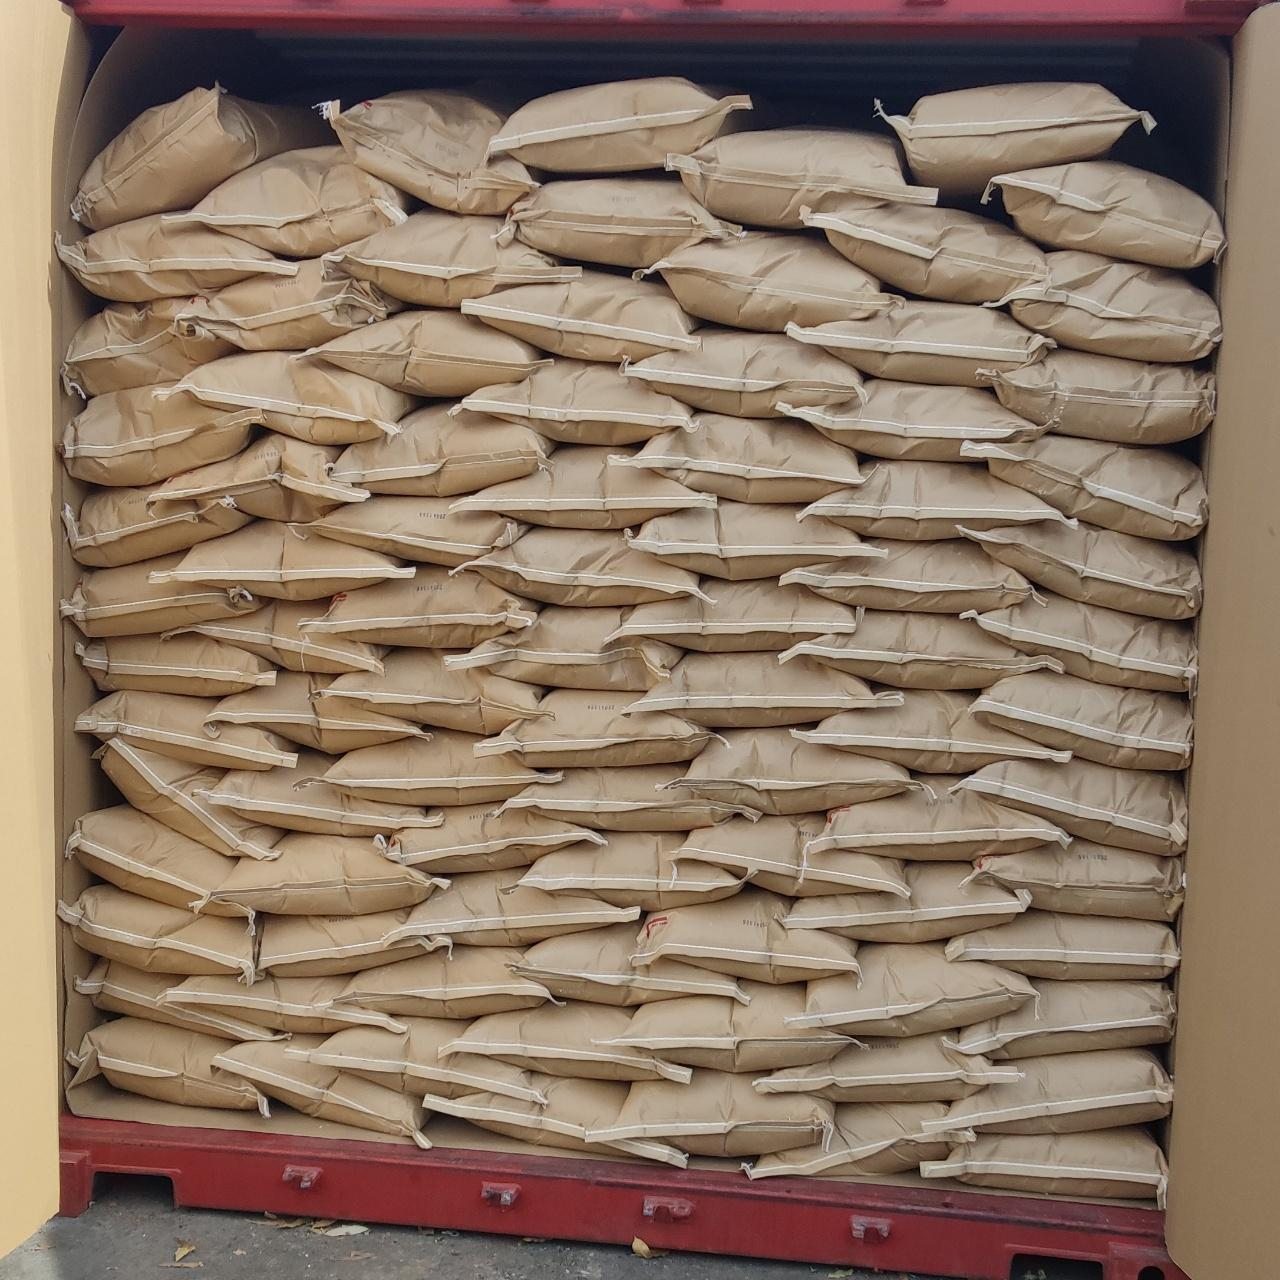sack: (72, 84, 328, 230), (877, 82, 1155, 193), (313, 91, 538, 215), (166, 144, 406, 254), (980, 162, 1223, 268), (670, 130, 934, 226), (802, 198, 1042, 304), (66, 804, 256, 935), (486, 79, 750, 172), (331, 207, 578, 306), (636, 230, 888, 326), (998, 250, 1220, 358), (424, 1076, 686, 1166), (216, 1034, 430, 1142), (787, 298, 1051, 384), (606, 980, 860, 1070), (968, 590, 1196, 690), (958, 520, 1201, 614), (983, 436, 1206, 538), (792, 690, 1068, 772), (166, 354, 416, 444), (952, 758, 1186, 855), (496, 176, 740, 266), (796, 942, 1034, 1034), (632, 886, 858, 982), (776, 610, 1060, 686), (782, 377, 1044, 459), (450, 445, 716, 526), (990, 348, 1214, 444), (810, 776, 1068, 858), (622, 326, 862, 414), (971, 670, 1190, 765), (98, 738, 278, 855), (452, 358, 692, 444), (297, 309, 542, 394), (632, 411, 860, 502), (66, 1016, 277, 1114), (462, 270, 694, 358), (177, 259, 400, 350), (592, 1070, 830, 1156), (57, 215, 294, 300), (332, 402, 552, 493), (629, 652, 900, 726), (450, 527, 704, 606), (512, 920, 744, 1006), (804, 459, 1064, 536), (686, 728, 914, 813), (204, 750, 434, 835), (944, 1048, 1172, 1132), (442, 1000, 686, 1078), (314, 1017, 540, 1102), (445, 608, 678, 690), (784, 862, 1026, 940), (670, 813, 904, 894), (168, 520, 411, 598), (779, 540, 1034, 614), (196, 835, 444, 910), (628, 501, 874, 576), (148, 434, 366, 518), (604, 578, 856, 651), (922, 1126, 1166, 1201), (316, 651, 542, 731), (309, 566, 536, 646), (476, 690, 716, 765), (66, 388, 252, 484), (964, 838, 1186, 918), (754, 1034, 1022, 1099), (952, 980, 1175, 1058), (496, 764, 758, 830), (322, 730, 556, 804), (60, 886, 254, 974), (207, 670, 422, 750), (400, 870, 634, 942), (745, 1102, 974, 1176), (520, 835, 740, 910), (79, 692, 294, 765), (79, 958, 275, 1039), (300, 496, 526, 566), (946, 910, 1178, 978), (64, 556, 258, 636), (66, 304, 234, 396), (170, 600, 384, 670), (244, 910, 448, 983), (377, 804, 606, 870), (66, 488, 250, 566), (340, 946, 550, 1014), (173, 974, 402, 1030), (79, 634, 275, 694)
